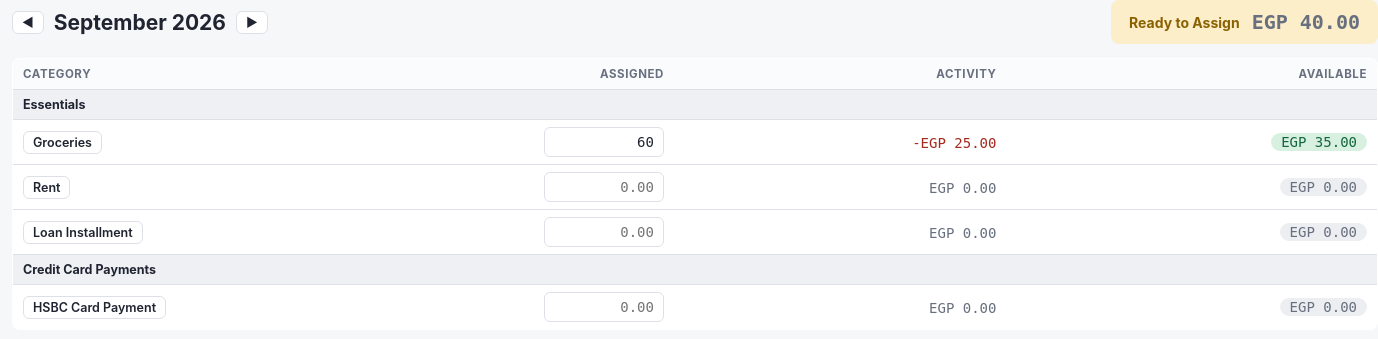
Test: BudgetView › editing Assigned updates Available immediately and persists to the store
Replace the text in the field named "assigned for groceries" with "80" at (604, 142), box [544, 127, 664, 157]
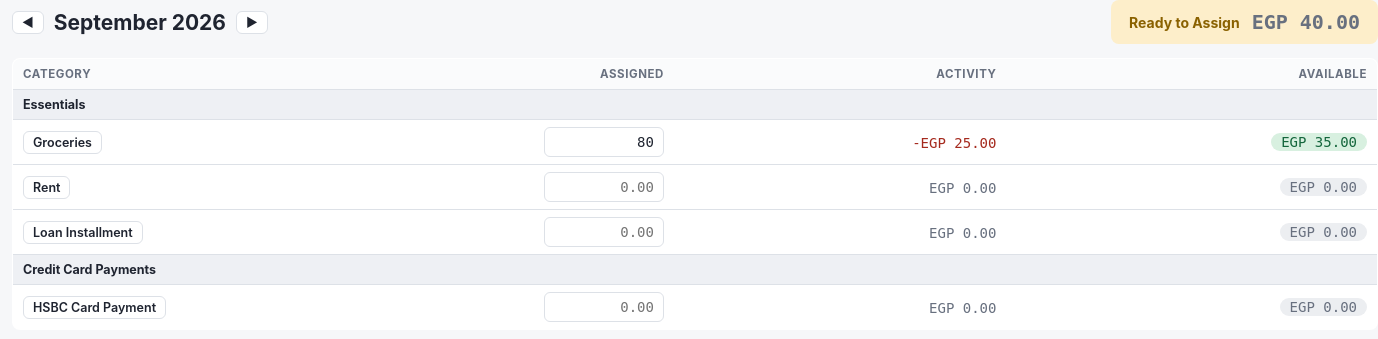
Press Enter in the field named "assigned for groceries", box [544, 127, 664, 157]
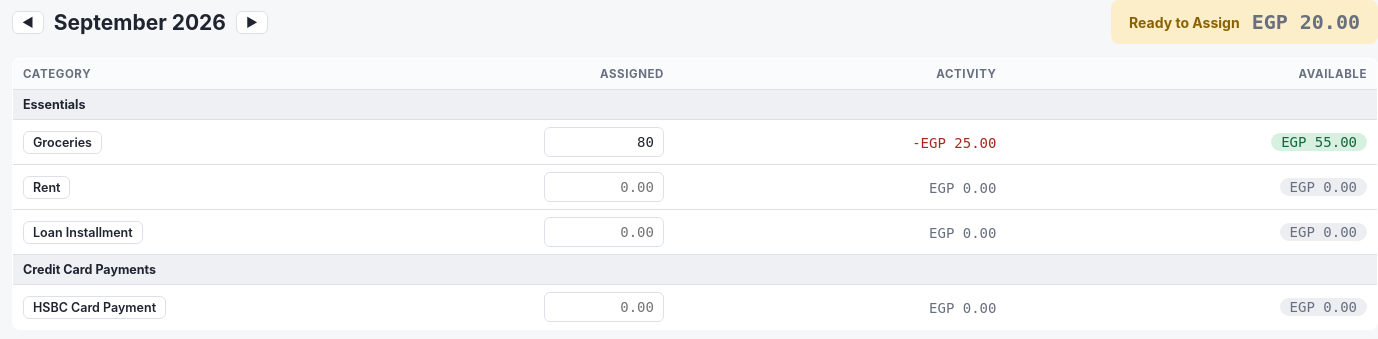
Expected: the text "Groceries" shows "55.00", [1281, 134, 1357, 150]
